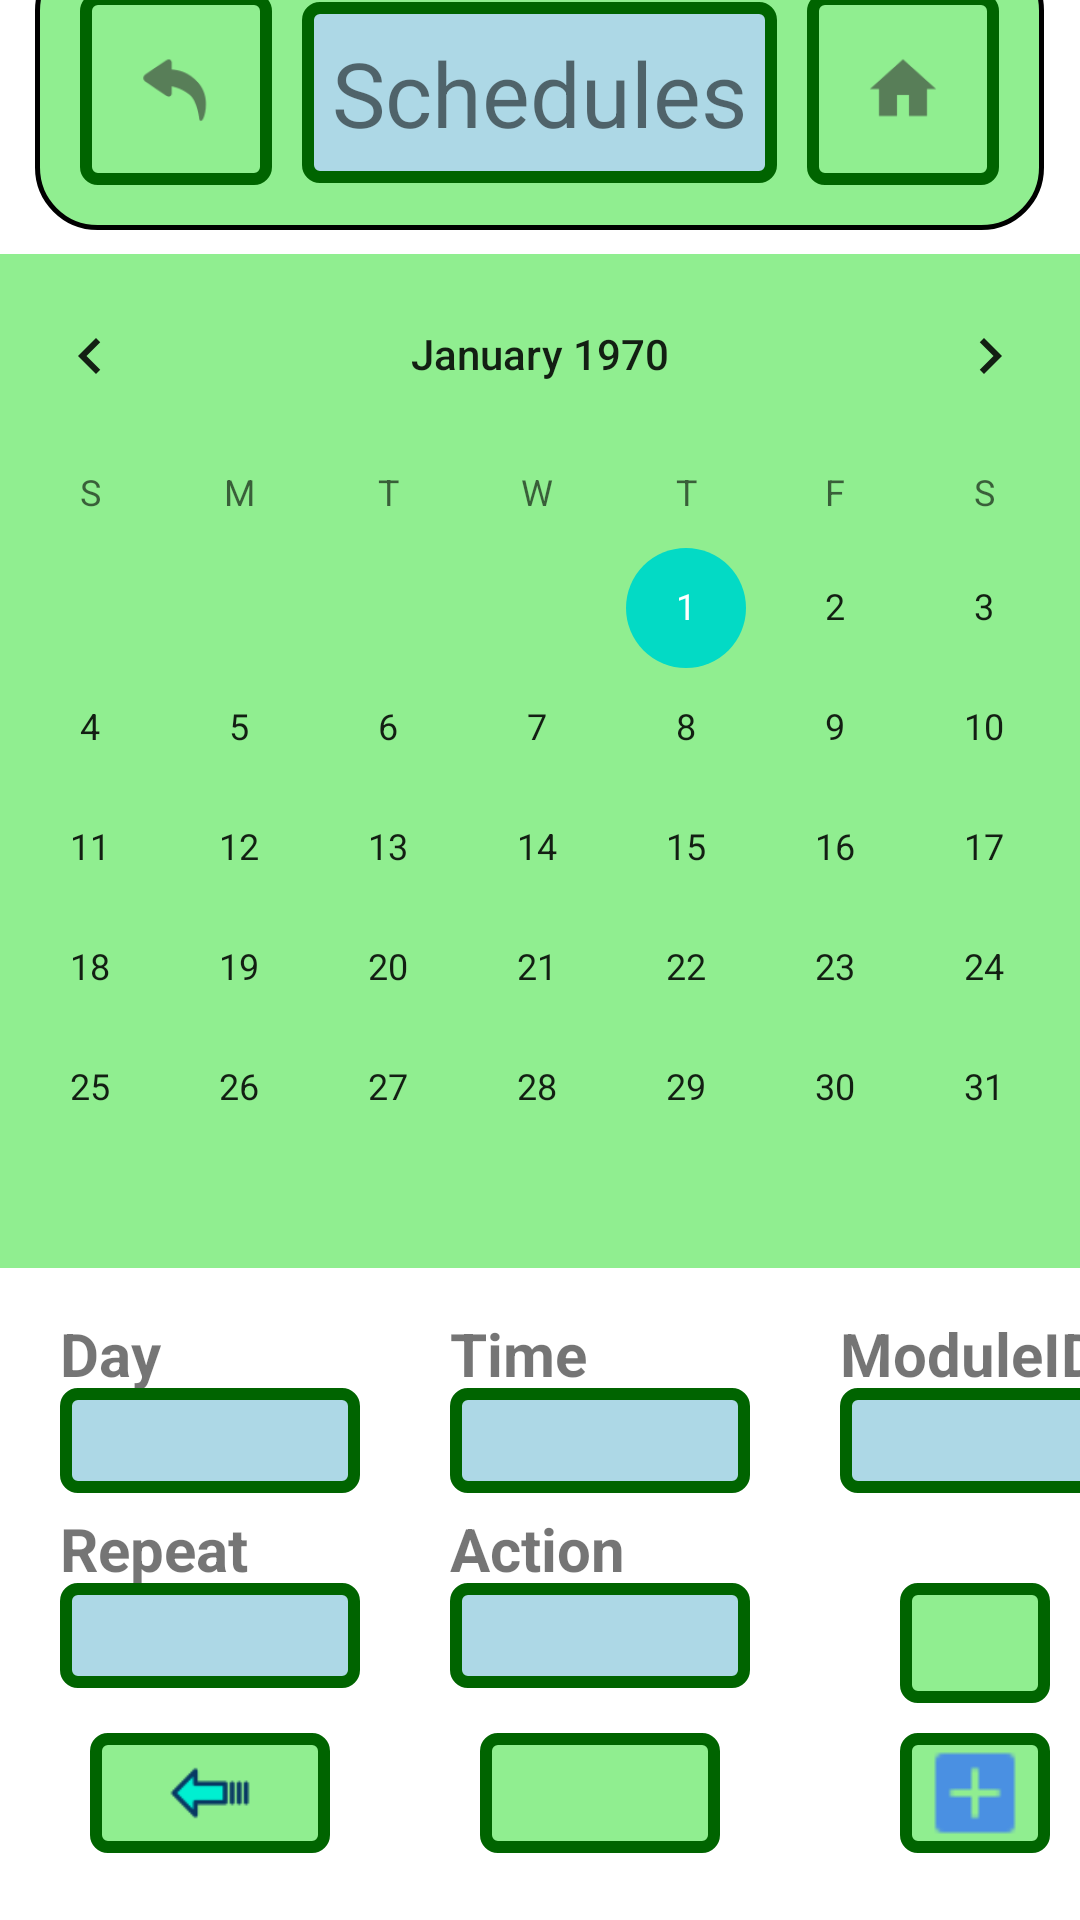

Icon bounding boxes for this 1080x1920 phone screenshot, format (x1, y1, x2, y2):
add: (900, 1733, 1050, 1853)
back: (80, 0, 272, 185)
home: (807, 0, 999, 185)
left arrow: (90, 1733, 330, 1853)
